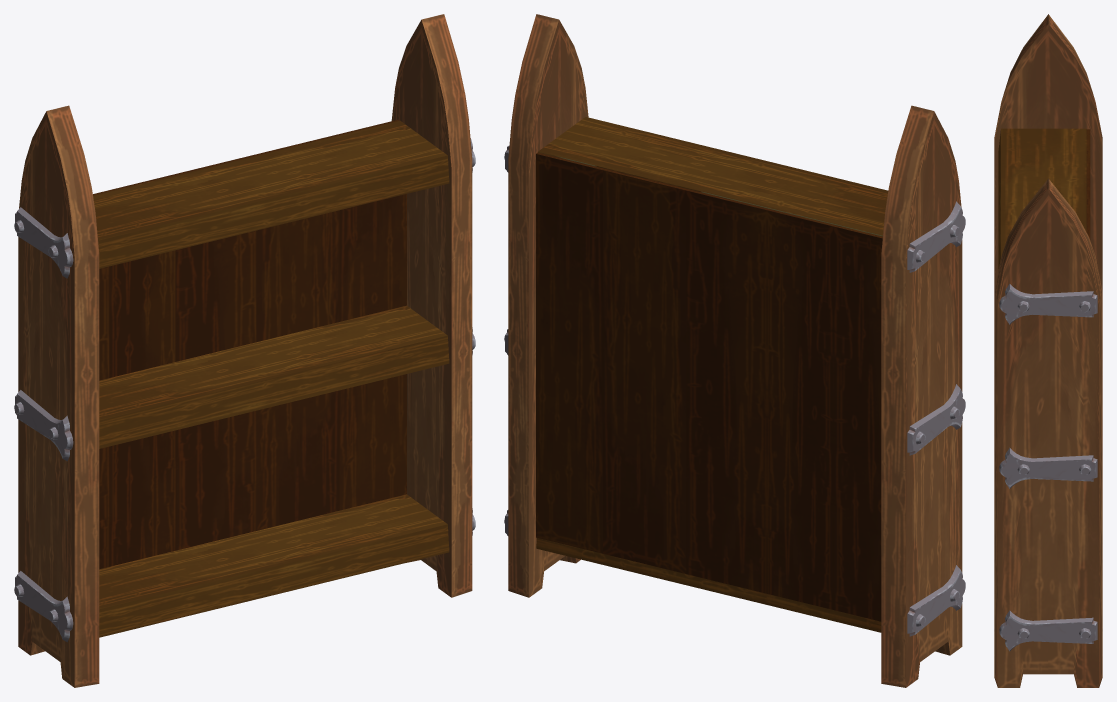
The model's file is Shelf_Arch.gltf.
3 views of the same model, side by side, from view 1: azimuth 30°, elevation 25°; view 2: azimuth 150°, elevation 25°; view 3: azimuth 270°, elevation 25° (orthographic). The views are drawn at different scales.
Visible parts, largest first — view 1: Shelf_Arch; view 2: Shelf_Arch; view 3: Shelf_Arch.
Boxes of the visible parts, left/top/right/bottom form: Shelf_Arch: left=14, top=14, right=475, bottom=687; Shelf_Arch: left=504, top=14, right=965, bottom=687; Shelf_Arch: left=994, top=14, right=1102, bottom=687.
Bounding box in the file's own units: 1.25 × 1.59 × 0.3116.
2 materials, 2 textured.
